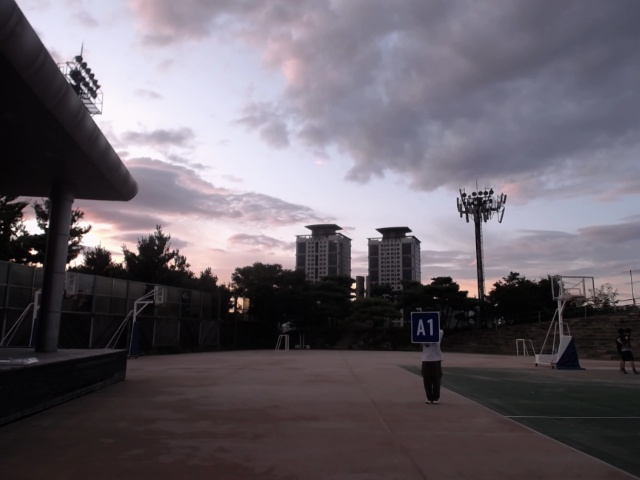delivery_a1: (411, 312, 440, 344)
